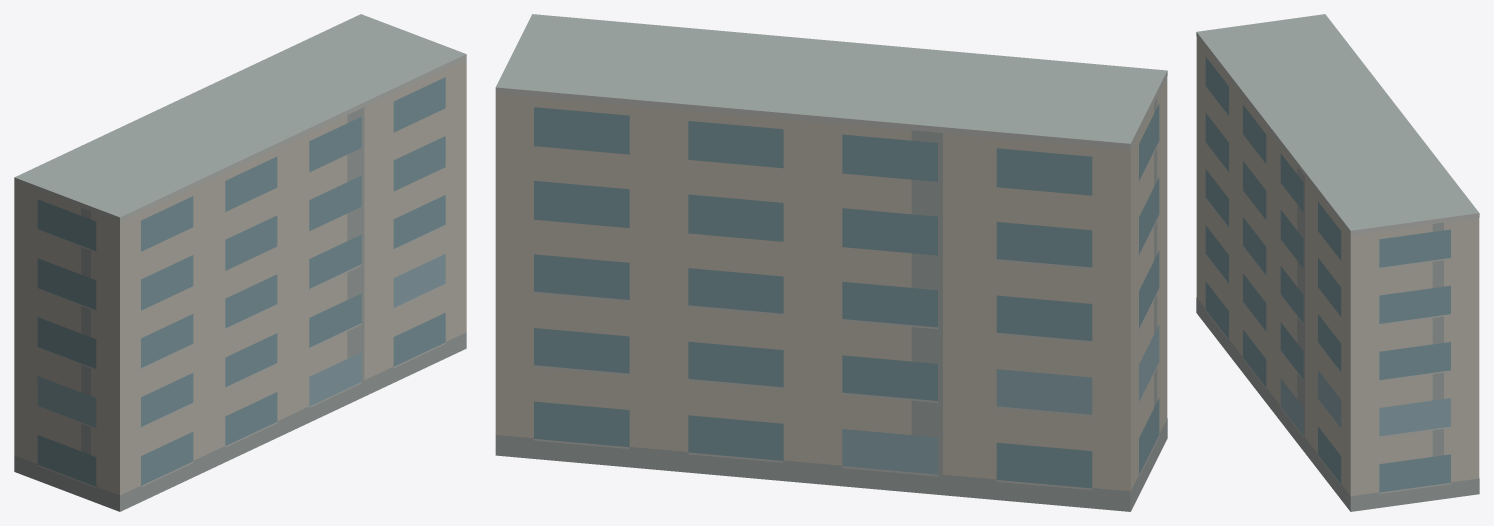
File: residential-e164c381-8abf-4a24-a540-386c823627a8.glb
3 views of the same model, side by side, from view 1: azimuth 30°, elevation 25°; view 2: azimuth 150°, elevation 25°; view 3: azimuth 270°, elevation 25° (orthographic). The views are drawn at different scales.
Parts seen in each view (by area): view 1: residential-e164c381-8abf-4a24-a540-386c823627a8.tmp; view 2: residential-e164c381-8abf-4a24-a540-386c823627a8.tmp; view 3: residential-e164c381-8abf-4a24-a540-386c823627a8.tmp.
Boxes of the visible parts, x1=… form: residential-e164c381-8abf-4a24-a540-386c823627a8.tmp: x1=14, y1=14, x2=466, y2=511; residential-e164c381-8abf-4a24-a540-386c823627a8.tmp: x1=495, y1=14, x2=1167, y2=511; residential-e164c381-8abf-4a24-a540-386c823627a8.tmp: x1=1196, y1=14, x2=1479, y2=511.
Size of the model in its own units: 25.24 by 15.25 by 13.93.
